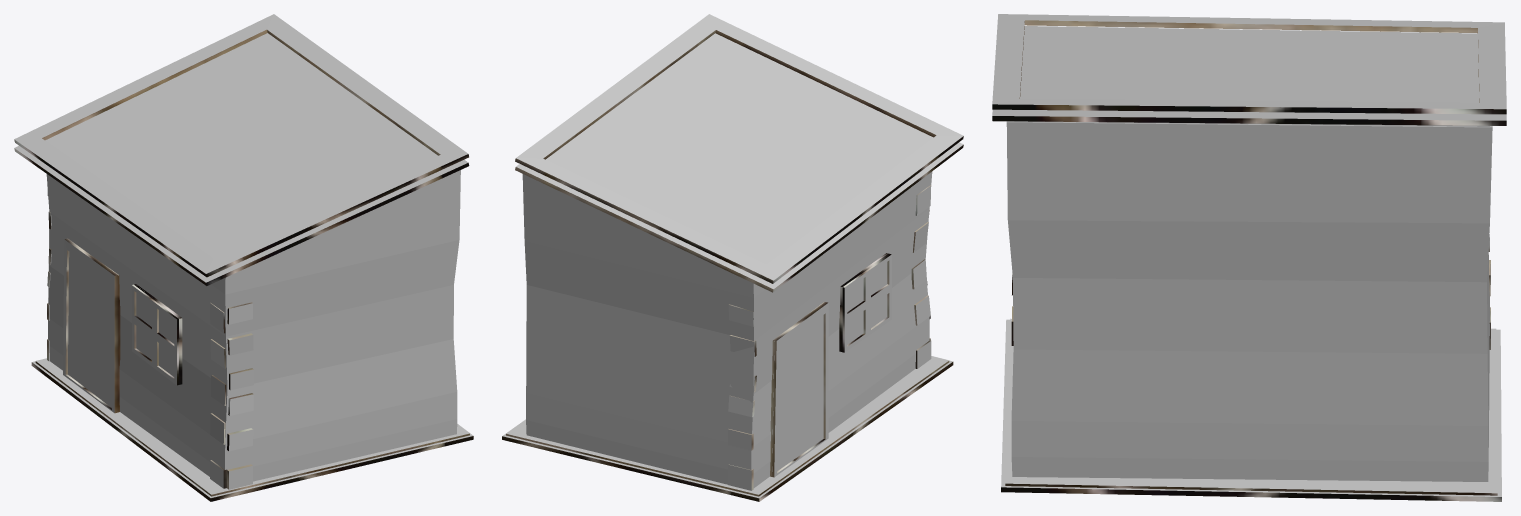
The model's file is SmallHouse2.fbx.
The picture shows the model from 3 angles, left to right: view 1: azimuth 30°, elevation 25°; view 2: azimuth 150°, elevation 25°; view 3: azimuth 270°, elevation 25°; orthographic projection. The views are drawn at different scales.
Visible parts, largest first — view 1: Cube.011; view 2: Cube.011; view 3: Cube.011.
Part boxes in pixels (<box>): Cube.011: <box>14,14,473,501</box>; Cube.011: <box>502,14,963,501</box>; Cube.011: <box>992,14,1506,501</box>.
Size of the model in its own units: 1285 by 1305 by 1572.
